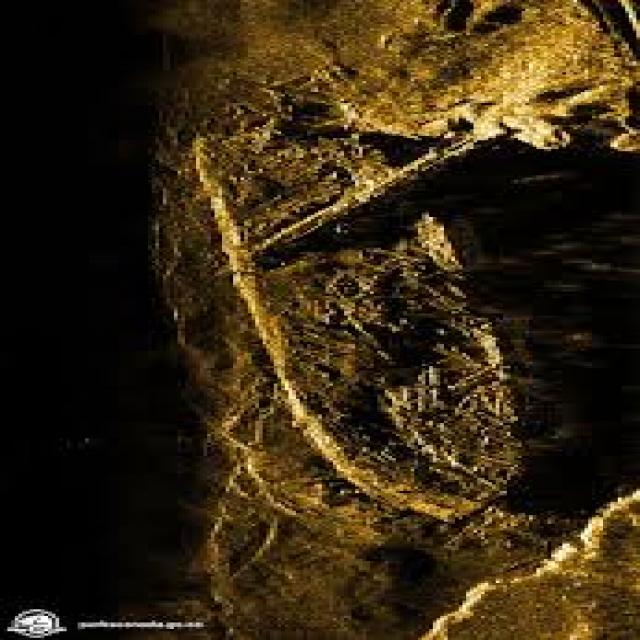ship: (192, 86, 548, 520)
